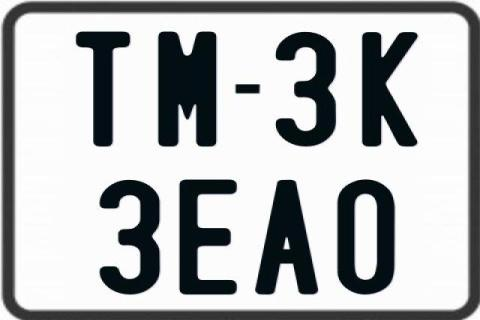0: (338, 178, 401, 296), (276, 31, 340, 145), (100, 178, 161, 294)
A: (254, 180, 321, 296)
E: (178, 179, 242, 299)
K: (361, 29, 419, 149)
M: (155, 32, 213, 146)
T: (74, 32, 130, 151)
